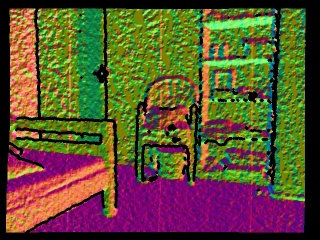station: (209, 69, 237, 100)
